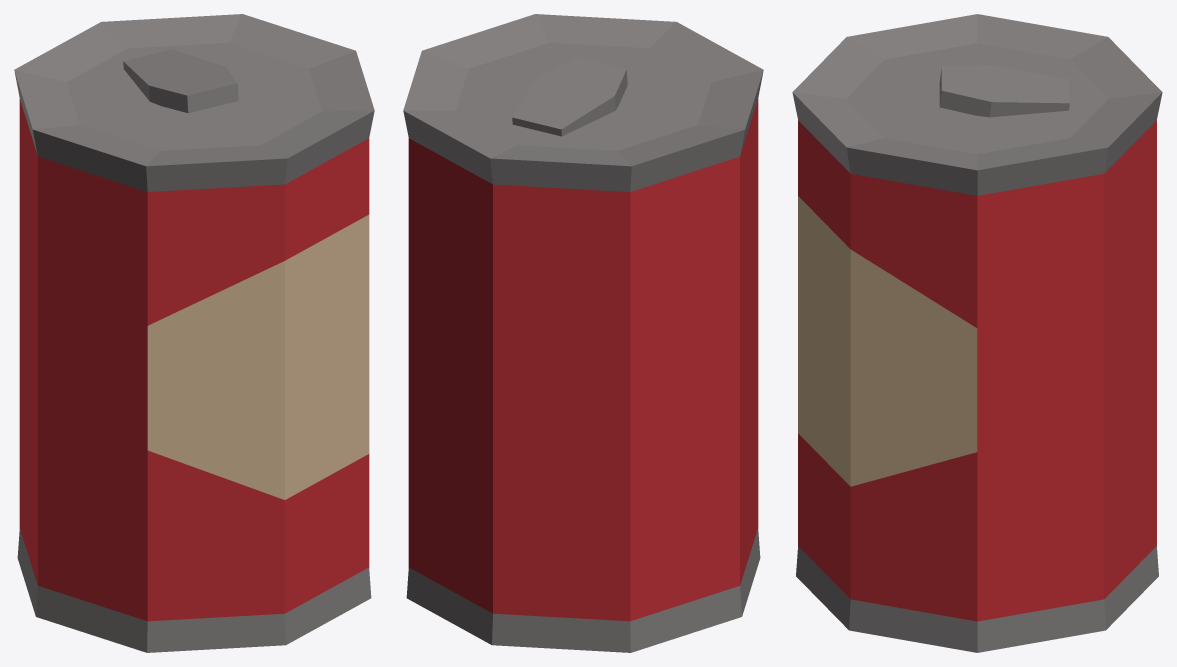
The model's file is food-can-beans.glb.
3 renders of one model, left to right at view 1: azimuth 30°, elevation 25°; view 2: azimuth 150°, elevation 25°; view 3: azimuth 270°, elevation 25°, orthographic.
Visible parts, largest first — view 1: can-beans; view 2: can-beans; view 3: can-beans.
Part boxes in pixels (x1,y1,x2,y2): can-beans: (14, 14, 374, 652); can-beans: (403, 14, 763, 652); can-beans: (792, 14, 1162, 652).
Size of the model in its own units: 0.1238 by 0.1837 by 0.1238.
